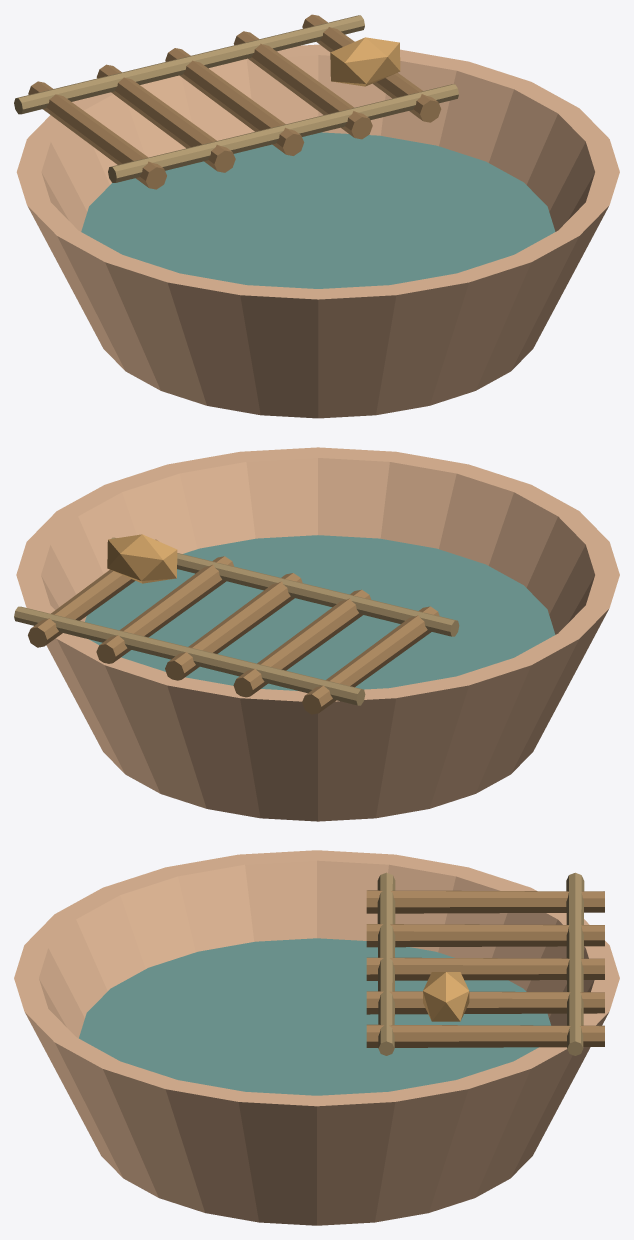
3 views of the same model, one above another, from view 1: azimuth 30°, elevation 25°; view 2: azimuth 150°, elevation 25°; view 3: azimuth 270°, elevation 25° (orthographic).
Parts seen in each view (by area): view 1: GF-081 Root washing and draining basin batched; view 2: GF-081 Root washing and draining basin batched; view 3: GF-081 Root washing and draining basin batched.
Boxes of the visible parts, bbox=[...] form: GF-081 Root washing and draining basin batched: bbox=[14, 14, 619, 418]; GF-081 Root washing and draining basin batched: bbox=[14, 447, 619, 821]; GF-081 Root washing and draining basin batched: bbox=[14, 850, 619, 1225].
Size of the model in its own units: 1.22 by 0.475 by 1.22.
